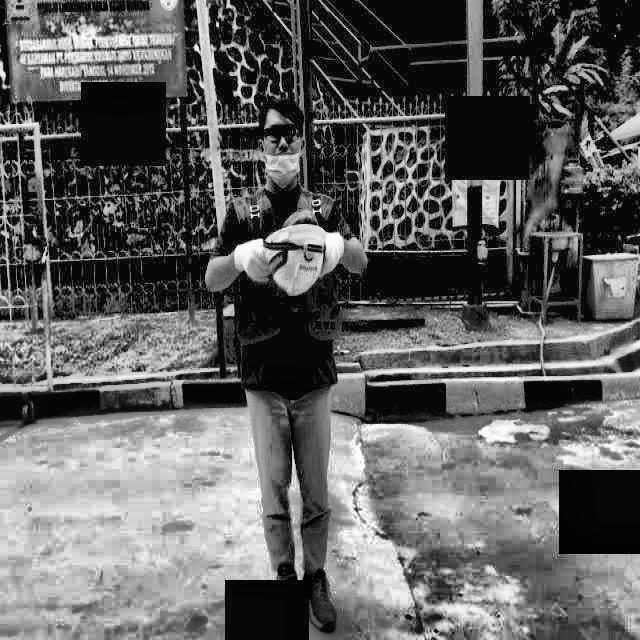safety_helmet: (263, 225, 326, 297)
safety_jacket: (230, 189, 341, 391)
